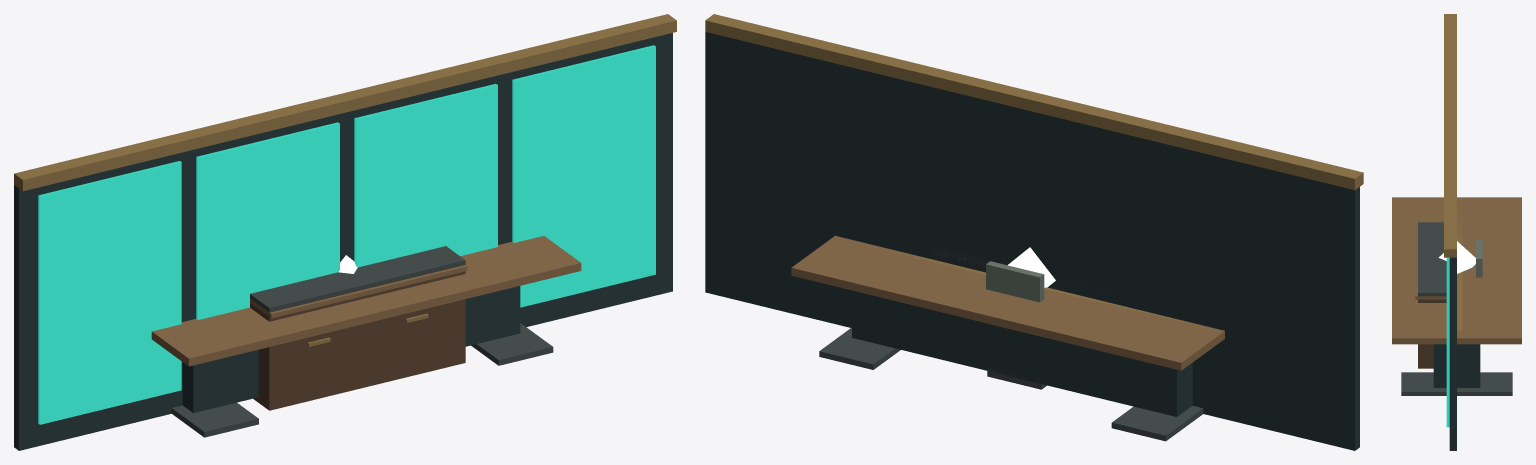
The model's file is hq-boardroom-pack.glb.
3 renders of one model, left to right at view 1: azimuth 30°, elevation 25°; view 2: azimuth 150°, elevation 25°; view 3: azimuth 270°, elevation 25°, orthographic. The views are drawn at different scales.
Visible parts, largest first — view 1: Epic_Lane_A, Epic_Lane_D, Epic_Backboard, Epic_Lane_B, Epic_Lane_C, Table_Top, Side_Body, Epic_Header, Table_Spine, Side_Skirt, Table_Foot_West, Table_Foot_East (+1 smaller); view 2: Epic_Backboard, Table_Top, Table_Spine, Epic_Header, Table_Foot_West, Chair_Back, Table_Foot_East, Table_Brass_Inlay, Holo_Glyph; view 3: Table_Top, Epic_Header, Side_Skirt, Table_Foot_East, Table_Spine, Epic_Backboard, Epic_Lane_D, Side_Body, Table_Brass_Inlay, Holo_Glyph, Side_Top, Chair_Back.
Part boxes in pixels (bbox=[...]): Epic_Lane_A: bbox=[38, 161, 181, 424]; Epic_Lane_D: bbox=[512, 45, 655, 307]; Epic_Backboard: bbox=[14, 33, 672, 450]; Epic_Lane_B: bbox=[196, 122, 339, 319]; Epic_Lane_C: bbox=[354, 84, 497, 267]; Table_Top: bbox=[151, 236, 581, 366]; Side_Body: bbox=[250, 271, 465, 410]; Epic_Header: bbox=[14, 14, 676, 191]; Table_Spine: bbox=[182, 286, 520, 412]; Side_Skirt: bbox=[250, 246, 465, 312]; Table_Foot_West: bbox=[171, 402, 258, 437]; Table_Foot_East: bbox=[471, 323, 553, 365]; Epic_Backboard: bbox=[705, 32, 1359, 450]; Table_Top: bbox=[791, 235, 1224, 370]; Table_Spine: bbox=[852, 290, 1192, 416]; Epic_Header: bbox=[705, 14, 1363, 190]; Table_Foot_West: bbox=[1111, 405, 1203, 441]; Chair_Back: bbox=[986, 261, 1044, 302]; Table_Foot_East: bbox=[819, 327, 900, 369]; Table_Brass_Inlay: bbox=[855, 241, 1202, 326]; Holo_Glyph: bbox=[1008, 247, 1055, 287]; Table_Top: bbox=[1392, 197, 1521, 344]; Epic_Header: bbox=[1444, 14, 1456, 257]; Side_Skirt: bbox=[1418, 222, 1446, 296]; Table_Foot_East: bbox=[1401, 372, 1512, 395]; Table_Spine: bbox=[1433, 344, 1480, 387]; Epic_Backboard: bbox=[1449, 257, 1456, 450]; Epic_Lane_D: bbox=[1446, 257, 1449, 427]; Side_Body: bbox=[1418, 299, 1446, 368]; Table_Brass_Inlay: bbox=[1457, 206, 1462, 330]; Holo_Glyph: bbox=[1438, 241, 1475, 273]; Side_Top: bbox=[1415, 225, 1446, 299]; Chair_Back: bbox=[1476, 239, 1482, 277].
Bounding box in the file's own units: 6 × 2.4 × 1.4.
